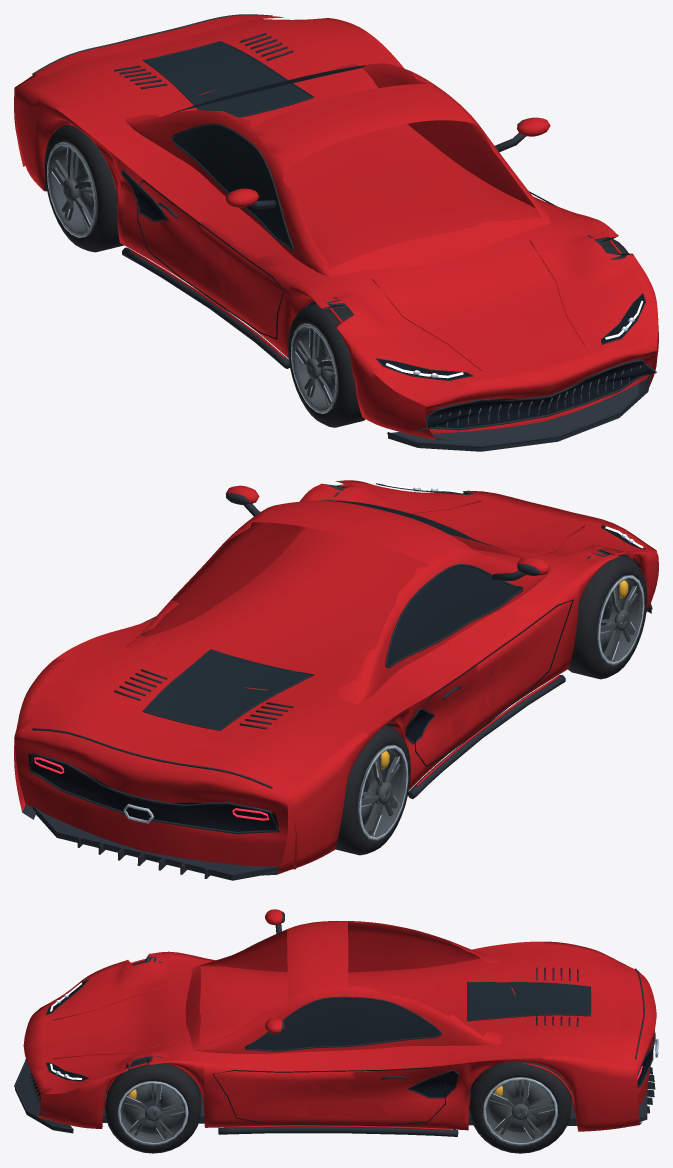
Rendered from Ferrari.glb.
3 renders of one model, top to bottom at view 1: azimuth 30°, elevation 25°; view 2: azimuth 150°, elevation 25°; view 3: azimuth 270°, elevation 25°, orthographic. The views are drawn at different scales.
Visible parts, largest first — view 1: Ferrari_Body, Wheel_Rear_L, Wheel_Front_L; view 2: Ferrari_Body, Wheel_Front_L, Wheel_Rear_L; view 3: Ferrari_Body, Wheel_Rear_R, Wheel_Front_R.
Boxes of the visible parts, <box> form: Ferrari_Body: <box>14,14,658,451</box>; Wheel_Rear_L: <box>44,122,123,252</box>; Wheel_Front_L: <box>288,304,365,427</box>; Ferrari_Body: <box>14,480,658,880</box>; Wheel_Front_L: <box>568,555,647,679</box>; Wheel_Rear_L: <box>335,725,410,855</box>; Ferrari_Body: <box>14,909,658,1136</box>; Wheel_Rear_R: <box>469,1061,571,1153</box>; Wheel_Front_R: <box>105,1058,200,1153</box>.
Bounding box in the file's own units: 2.02 × 1.19 × 4.57.
